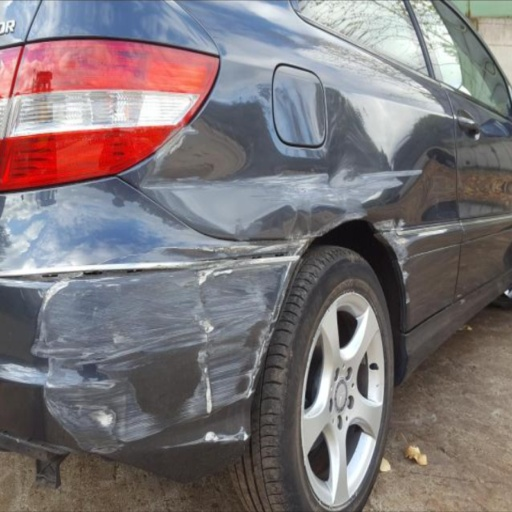dent: (327, 109, 391, 221)
scratch: (37, 236, 316, 453), (375, 221, 409, 309), (160, 427, 248, 451), (459, 297, 464, 305), (456, 292, 463, 297)
